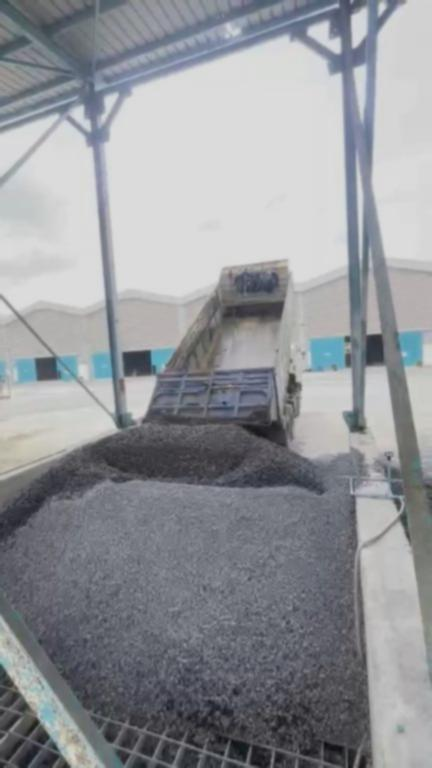gravel: (1, 444, 372, 744), (0, 423, 324, 535), (143, 411, 269, 424)
sand: (1, 429, 48, 473)
